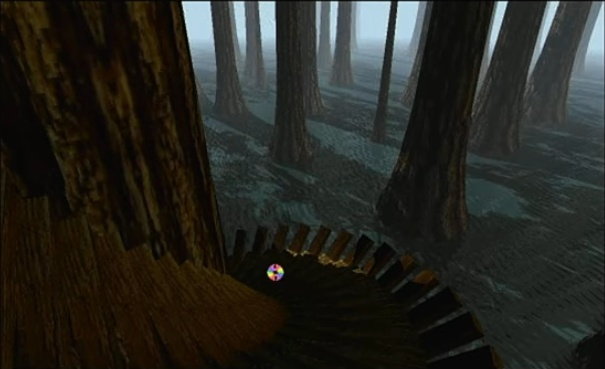Waiting: (263, 259, 287, 284)
